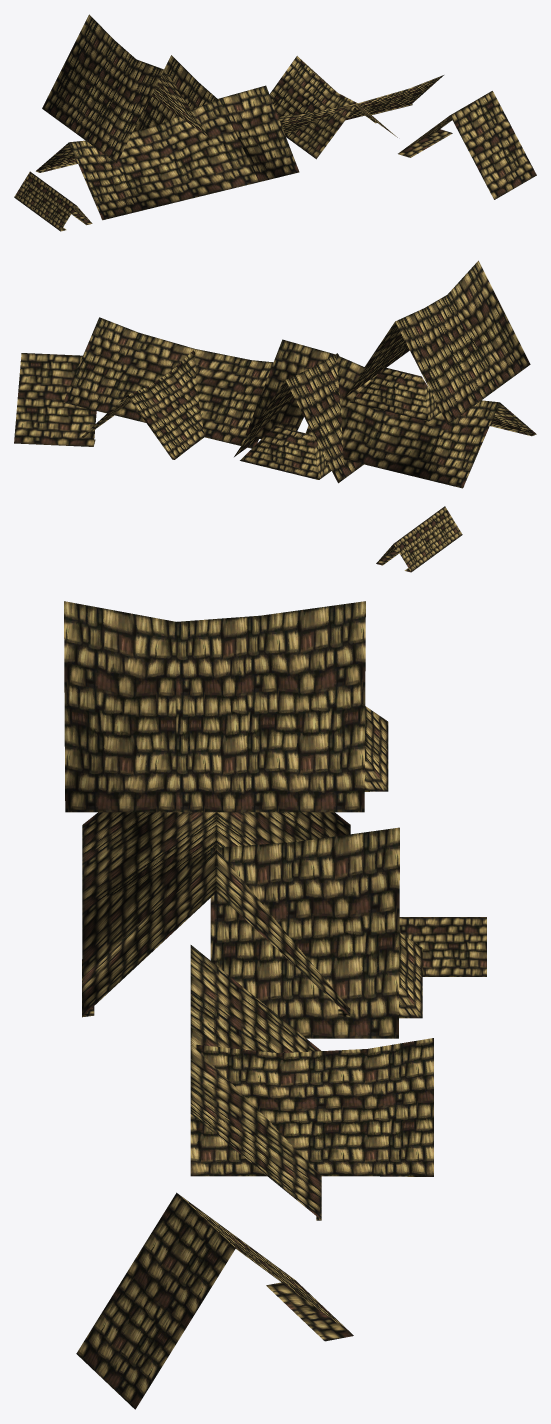
File: LAKETOWN_EXTERIOR_PS_LT_ROOFS243.fbx
3 renders of one model, top to bottom at view 1: azimuth 30°, elevation 25°; view 2: azimuth 150°, elevation 25°; view 3: azimuth 270°, elevation 25°, orthographic. The views are drawn at different scales.
Parts seen in each view (by area): view 1: LAKETOWN_EXTERIOR_PS_LT_ROOFS243; view 2: LAKETOWN_EXTERIOR_PS_LT_ROOFS243; view 3: LAKETOWN_EXTERIOR_PS_LT_ROOFS243.
Boxes of the visible parts, <box> form: LAKETOWN_EXTERIOR_PS_LT_ROOFS243: <box>14,14,536,231</box>; LAKETOWN_EXTERIOR_PS_LT_ROOFS243: <box>14,260,536,572</box>; LAKETOWN_EXTERIOR_PS_LT_ROOFS243: <box>64,601,486,1409</box>.
Bounding box in the file's own units: 280188 × 127951 × 114652.
1 material, 1 textured.
